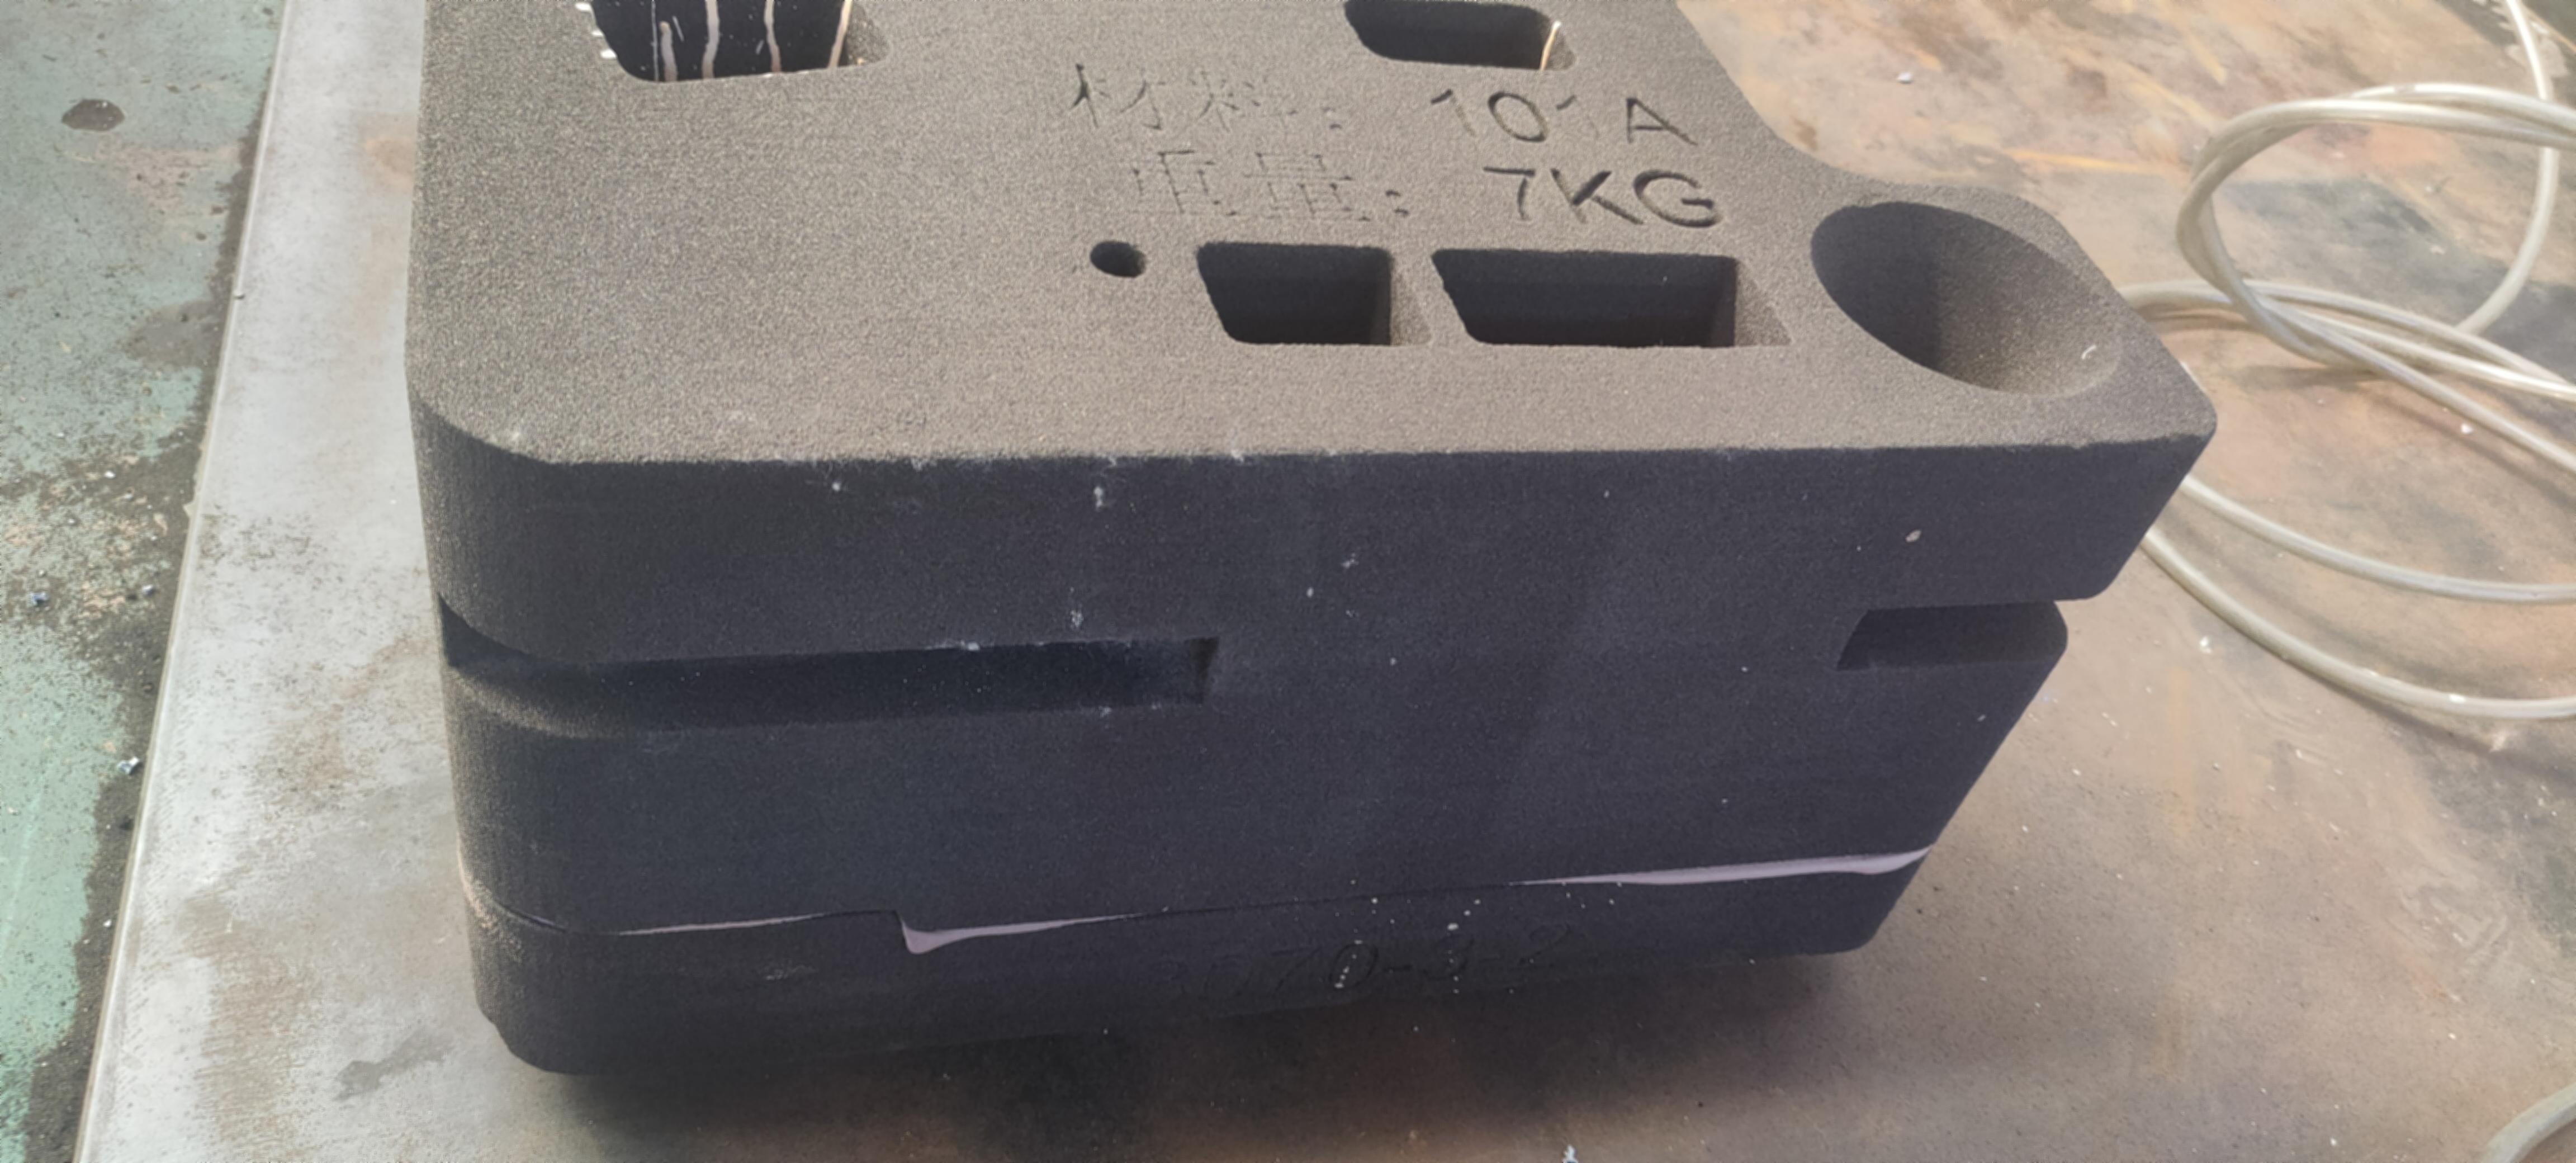pouring hole: (1814, 199, 2123, 394)
